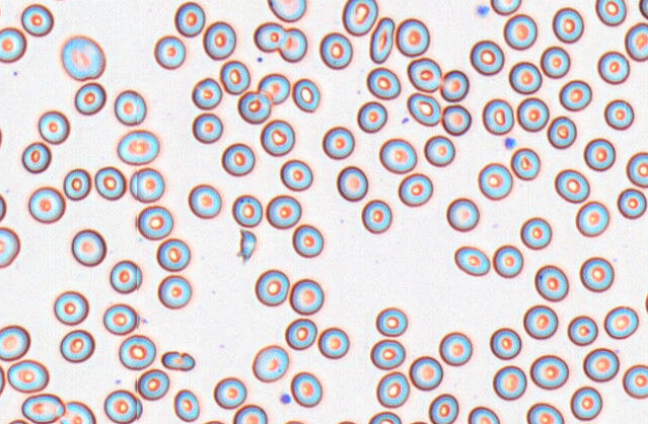PLT: (503, 135, 519, 149), (278, 393, 294, 406), (476, 4, 489, 17)
RBC: (61, 35, 105, 80), (116, 129, 159, 165), (6, 359, 49, 393), (251, 344, 288, 382), (27, 186, 65, 223), (529, 354, 569, 389), (378, 137, 416, 173), (118, 334, 156, 370), (395, 17, 429, 57), (477, 162, 512, 200), (71, 228, 106, 266), (254, 268, 289, 306), (103, 389, 142, 423), (21, 393, 65, 423), (203, 20, 236, 60), (342, 0, 378, 36), (136, 205, 173, 240), (582, 347, 619, 382), (534, 264, 569, 301), (260, 118, 294, 156), (53, 290, 89, 325), (469, 39, 504, 75), (579, 256, 614, 292), (406, 56, 441, 92), (265, 194, 301, 229), (554, 168, 590, 203), (575, 200, 609, 237), (503, 13, 537, 50), (375, 371, 409, 408), (289, 278, 323, 315), (319, 31, 352, 69), (129, 167, 164, 202), (408, 355, 443, 390), (523, 304, 558, 339), (59, 329, 95, 363), (397, 172, 433, 206), (187, 183, 221, 219), (603, 305, 639, 339), (369, 16, 395, 63), (481, 98, 514, 135), (406, 92, 441, 126), (157, 274, 191, 309), (492, 365, 526, 400), (438, 331, 472, 366), (516, 96, 549, 132), (569, 385, 602, 421), (508, 60, 542, 94), (237, 90, 271, 124), (156, 237, 190, 271), (221, 142, 255, 176), (37, 109, 70, 144), (369, 338, 405, 370), (102, 303, 138, 335), (336, 165, 368, 201), (114, 89, 146, 125), (290, 371, 322, 407), (453, 245, 490, 276), (552, 6, 583, 43), (109, 259, 142, 293), (446, 197, 479, 231), (366, 66, 400, 99), (597, 50, 630, 84), (94, 165, 126, 200), (153, 34, 185, 69), (174, 1, 205, 37), (0, 324, 30, 361), (213, 376, 246, 409), (284, 317, 317, 350), (20, 3, 53, 36), (279, 158, 312, 191), (322, 125, 354, 159), (74, 81, 106, 115), (558, 79, 592, 111), (291, 223, 323, 257), (583, 137, 615, 171), (219, 59, 250, 94), (361, 198, 392, 233), (257, 72, 290, 104), (136, 368, 169, 400), (317, 326, 349, 359), (520, 216, 552, 249), (492, 244, 523, 278), (423, 134, 455, 166), (489, 327, 521, 359), (231, 194, 262, 227), (191, 76, 222, 109), (546, 115, 576, 149), (278, 27, 307, 62), (291, 77, 320, 112), (253, 21, 285, 52), (356, 100, 387, 132), (375, 306, 407, 337), (567, 314, 598, 346), (603, 98, 634, 130), (439, 69, 469, 102), (510, 147, 540, 180), (540, 45, 570, 78), (0, 26, 26, 63), (191, 112, 222, 143), (21, 141, 51, 173), (441, 104, 471, 135), (617, 187, 646, 219), (622, 363, 647, 399), (428, 393, 458, 423), (624, 22, 647, 61), (63, 168, 91, 200), (173, 388, 199, 422), (267, 0, 306, 22), (58, 400, 95, 423), (0, 226, 20, 268), (595, 0, 626, 26), (526, 402, 564, 423), (626, 151, 647, 187), (232, 403, 267, 423), (467, 405, 500, 423), (490, 0, 521, 15), (367, 410, 401, 423), (0, 192, 6, 222), (639, 0, 648, 19), (0, 363, 5, 396), (333, 419, 360, 424), (281, 419, 308, 424), (7, 418, 29, 424), (201, 419, 226, 424), (644, 289, 648, 316), (0, 119, 3, 152), (407, 420, 428, 424)
Schistocyte: (159, 350, 197, 372), (238, 228, 258, 265)
